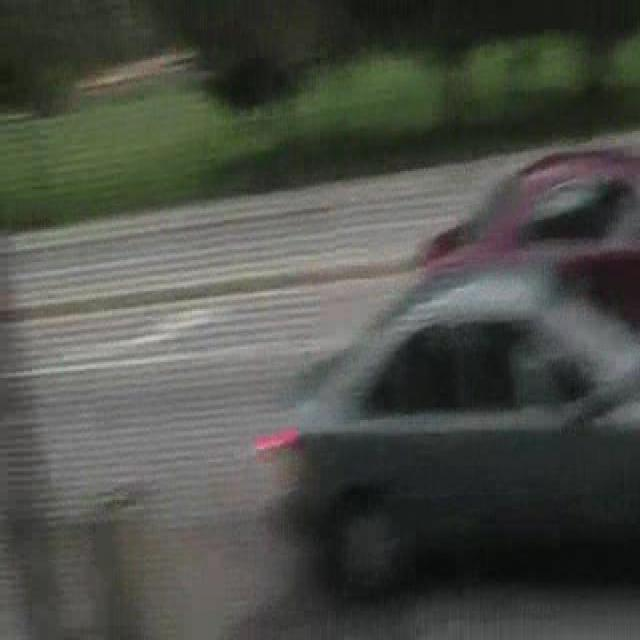other: (246, 412, 314, 479)
